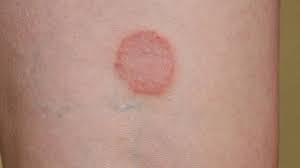tina: (108, 11, 182, 100)
